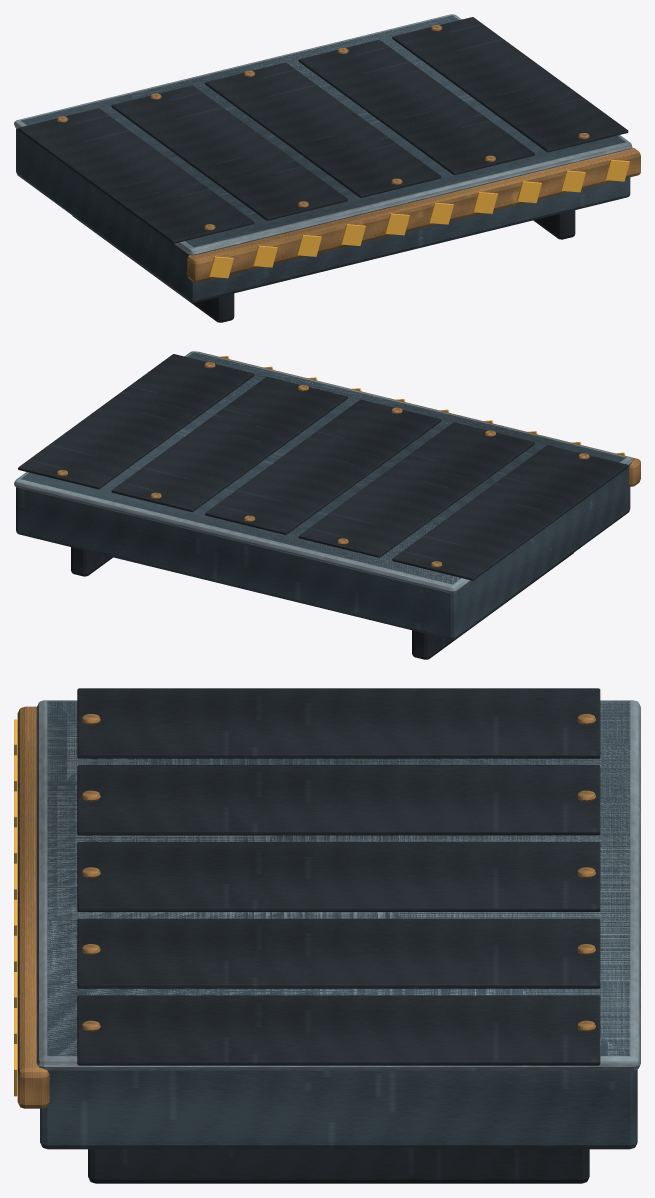
The model's file is platform.glb.
3 renders of one model, top to bottom at view 1: azimuth 30°, elevation 25°; view 2: azimuth 150°, elevation 25°; view 3: azimuth 270°, elevation 25°, orthographic. The views are drawn at different scales.
Parts seen in each view (by area): view 1: platform; view 2: platform; view 3: platform.
Boxes of the visible parts, x1,y1,x2,y2 form: platform: [14, 14, 640, 322]; platform: [14, 351, 640, 659]; platform: [14, 688, 640, 1183].
Size of the model in its own units: 4.14 by 0.875 by 2.94.
5 materials, 4 textured.
